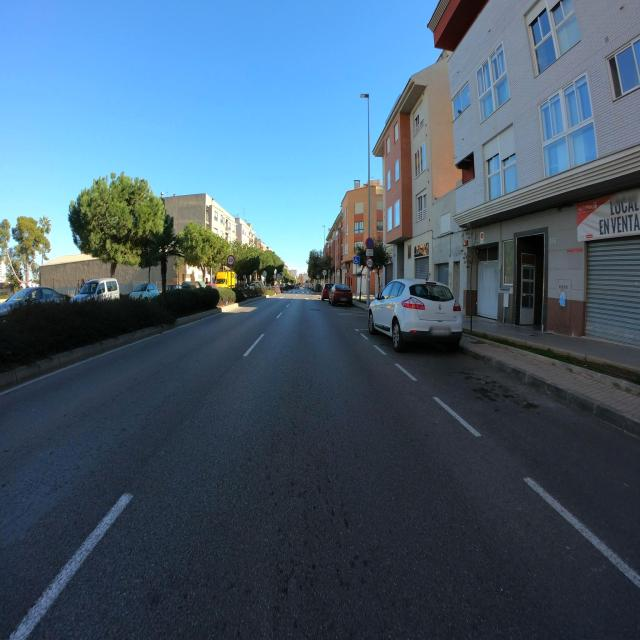car: (367, 277, 464, 353), (0, 286, 68, 317), (72, 278, 120, 303), (329, 283, 353, 307), (129, 282, 160, 300), (321, 282, 333, 300), (180, 281, 201, 291), (166, 284, 178, 292)
